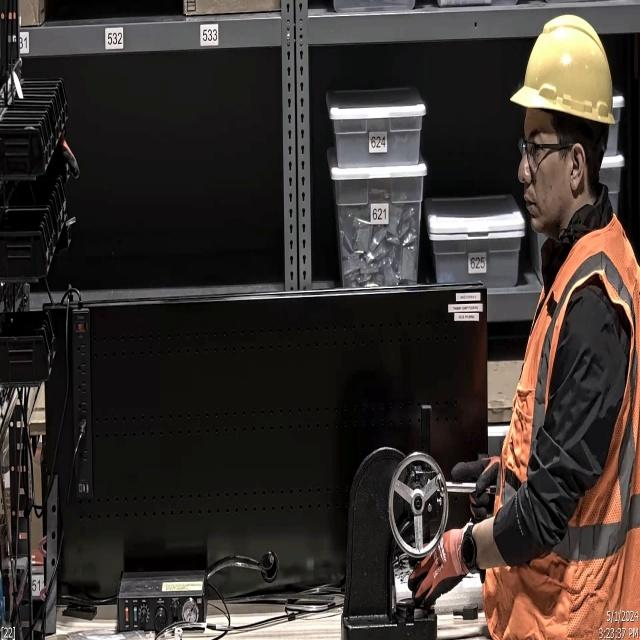gloves: (402, 522, 472, 612)
